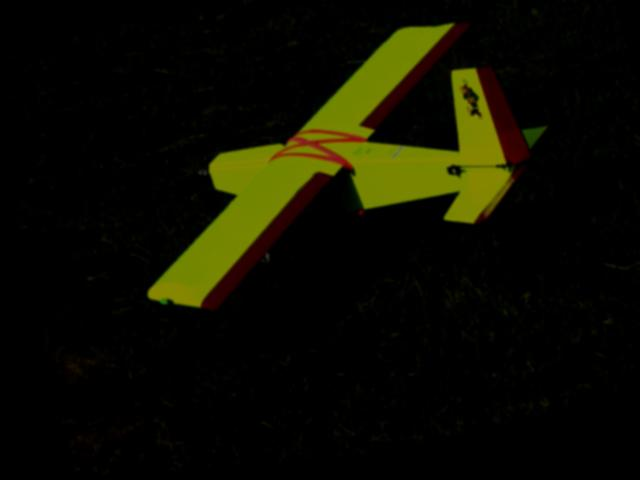plane: (90, 1, 588, 334)
